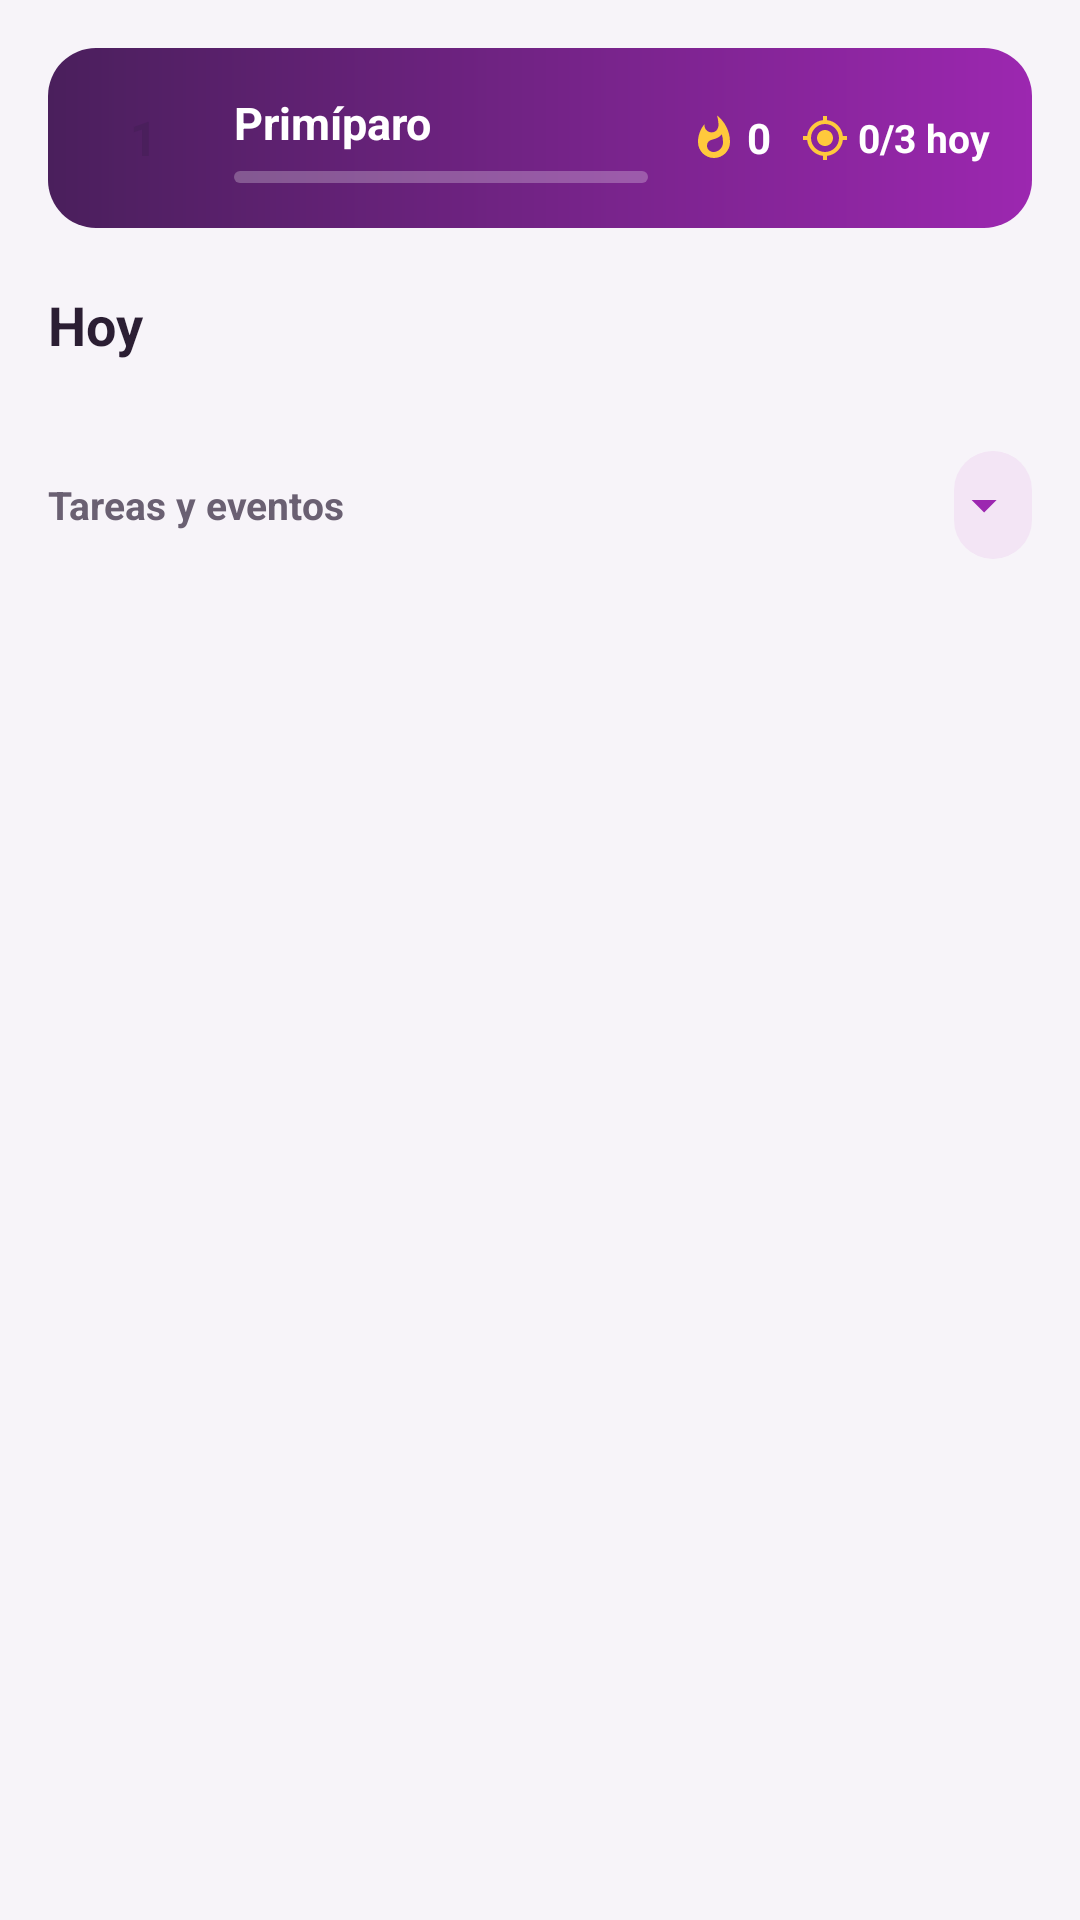

Icon bounding boxes for this 1080 x 1920 phone screenshot, format rect(x1, y1, x2, y2):
gami objetivo: rect(803, 116, 847, 160)
gami racha: rect(698, 116, 730, 158)
